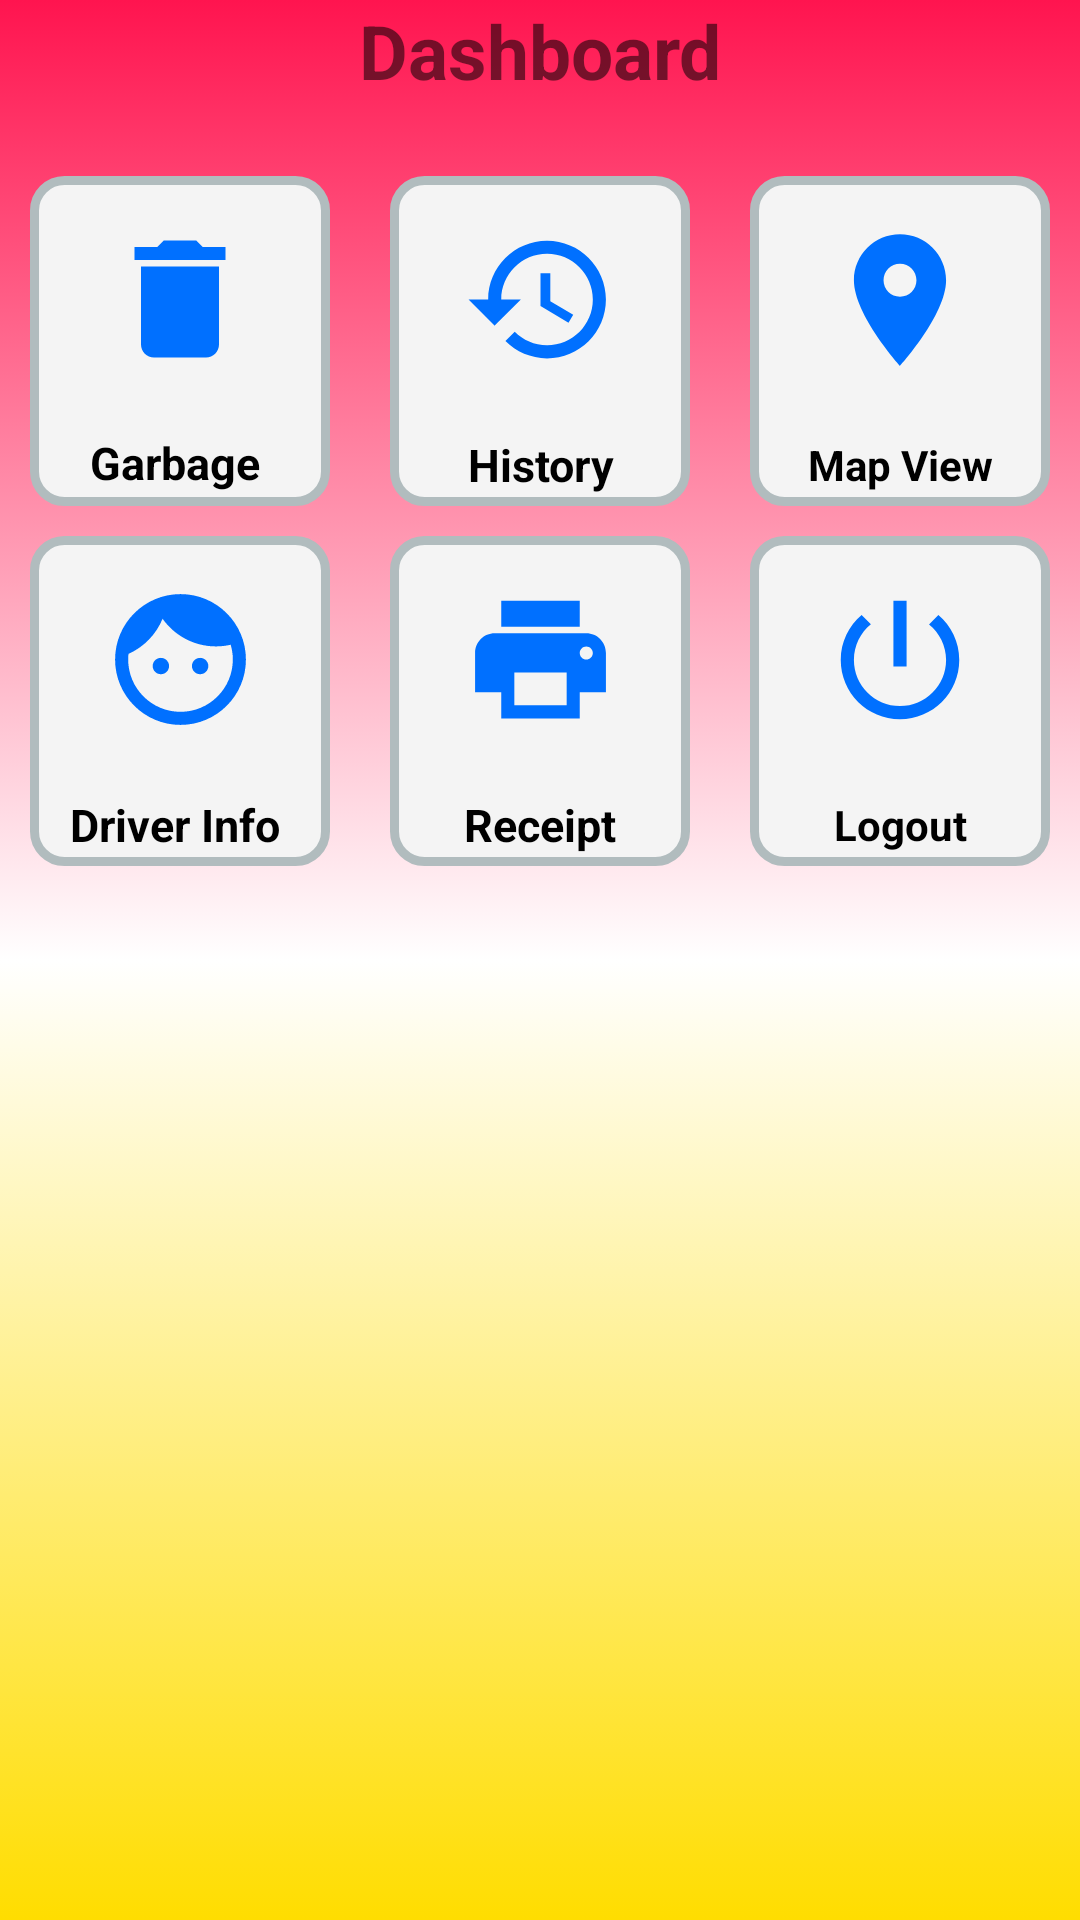

Screen size 1080 × 1920. Icon name, then its center in pixels as (x,y):
bin: (180,299)
print: (540,659)
profile: (180,659)
